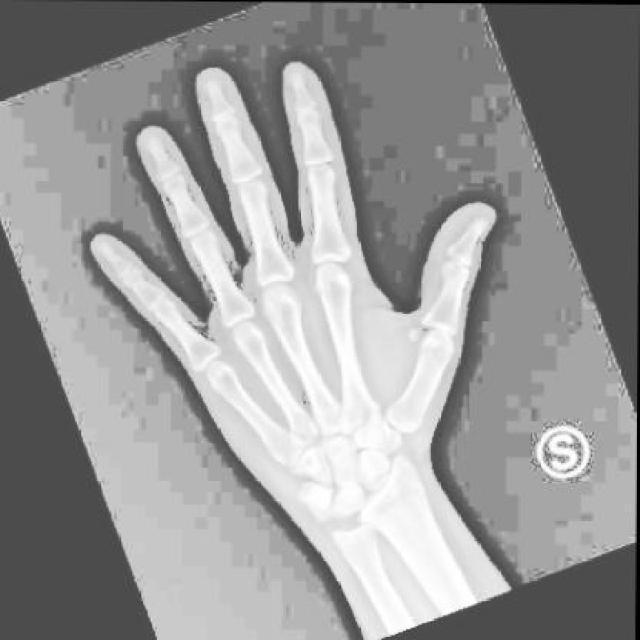Fracture: (432, 257, 465, 290)
